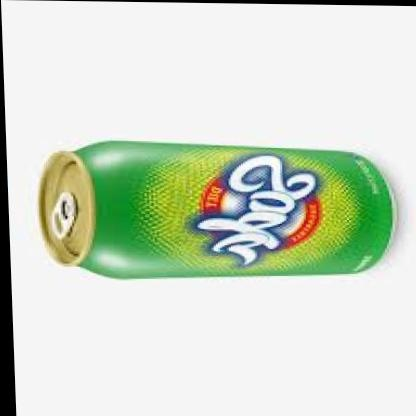trash: (40, 141, 392, 277)
